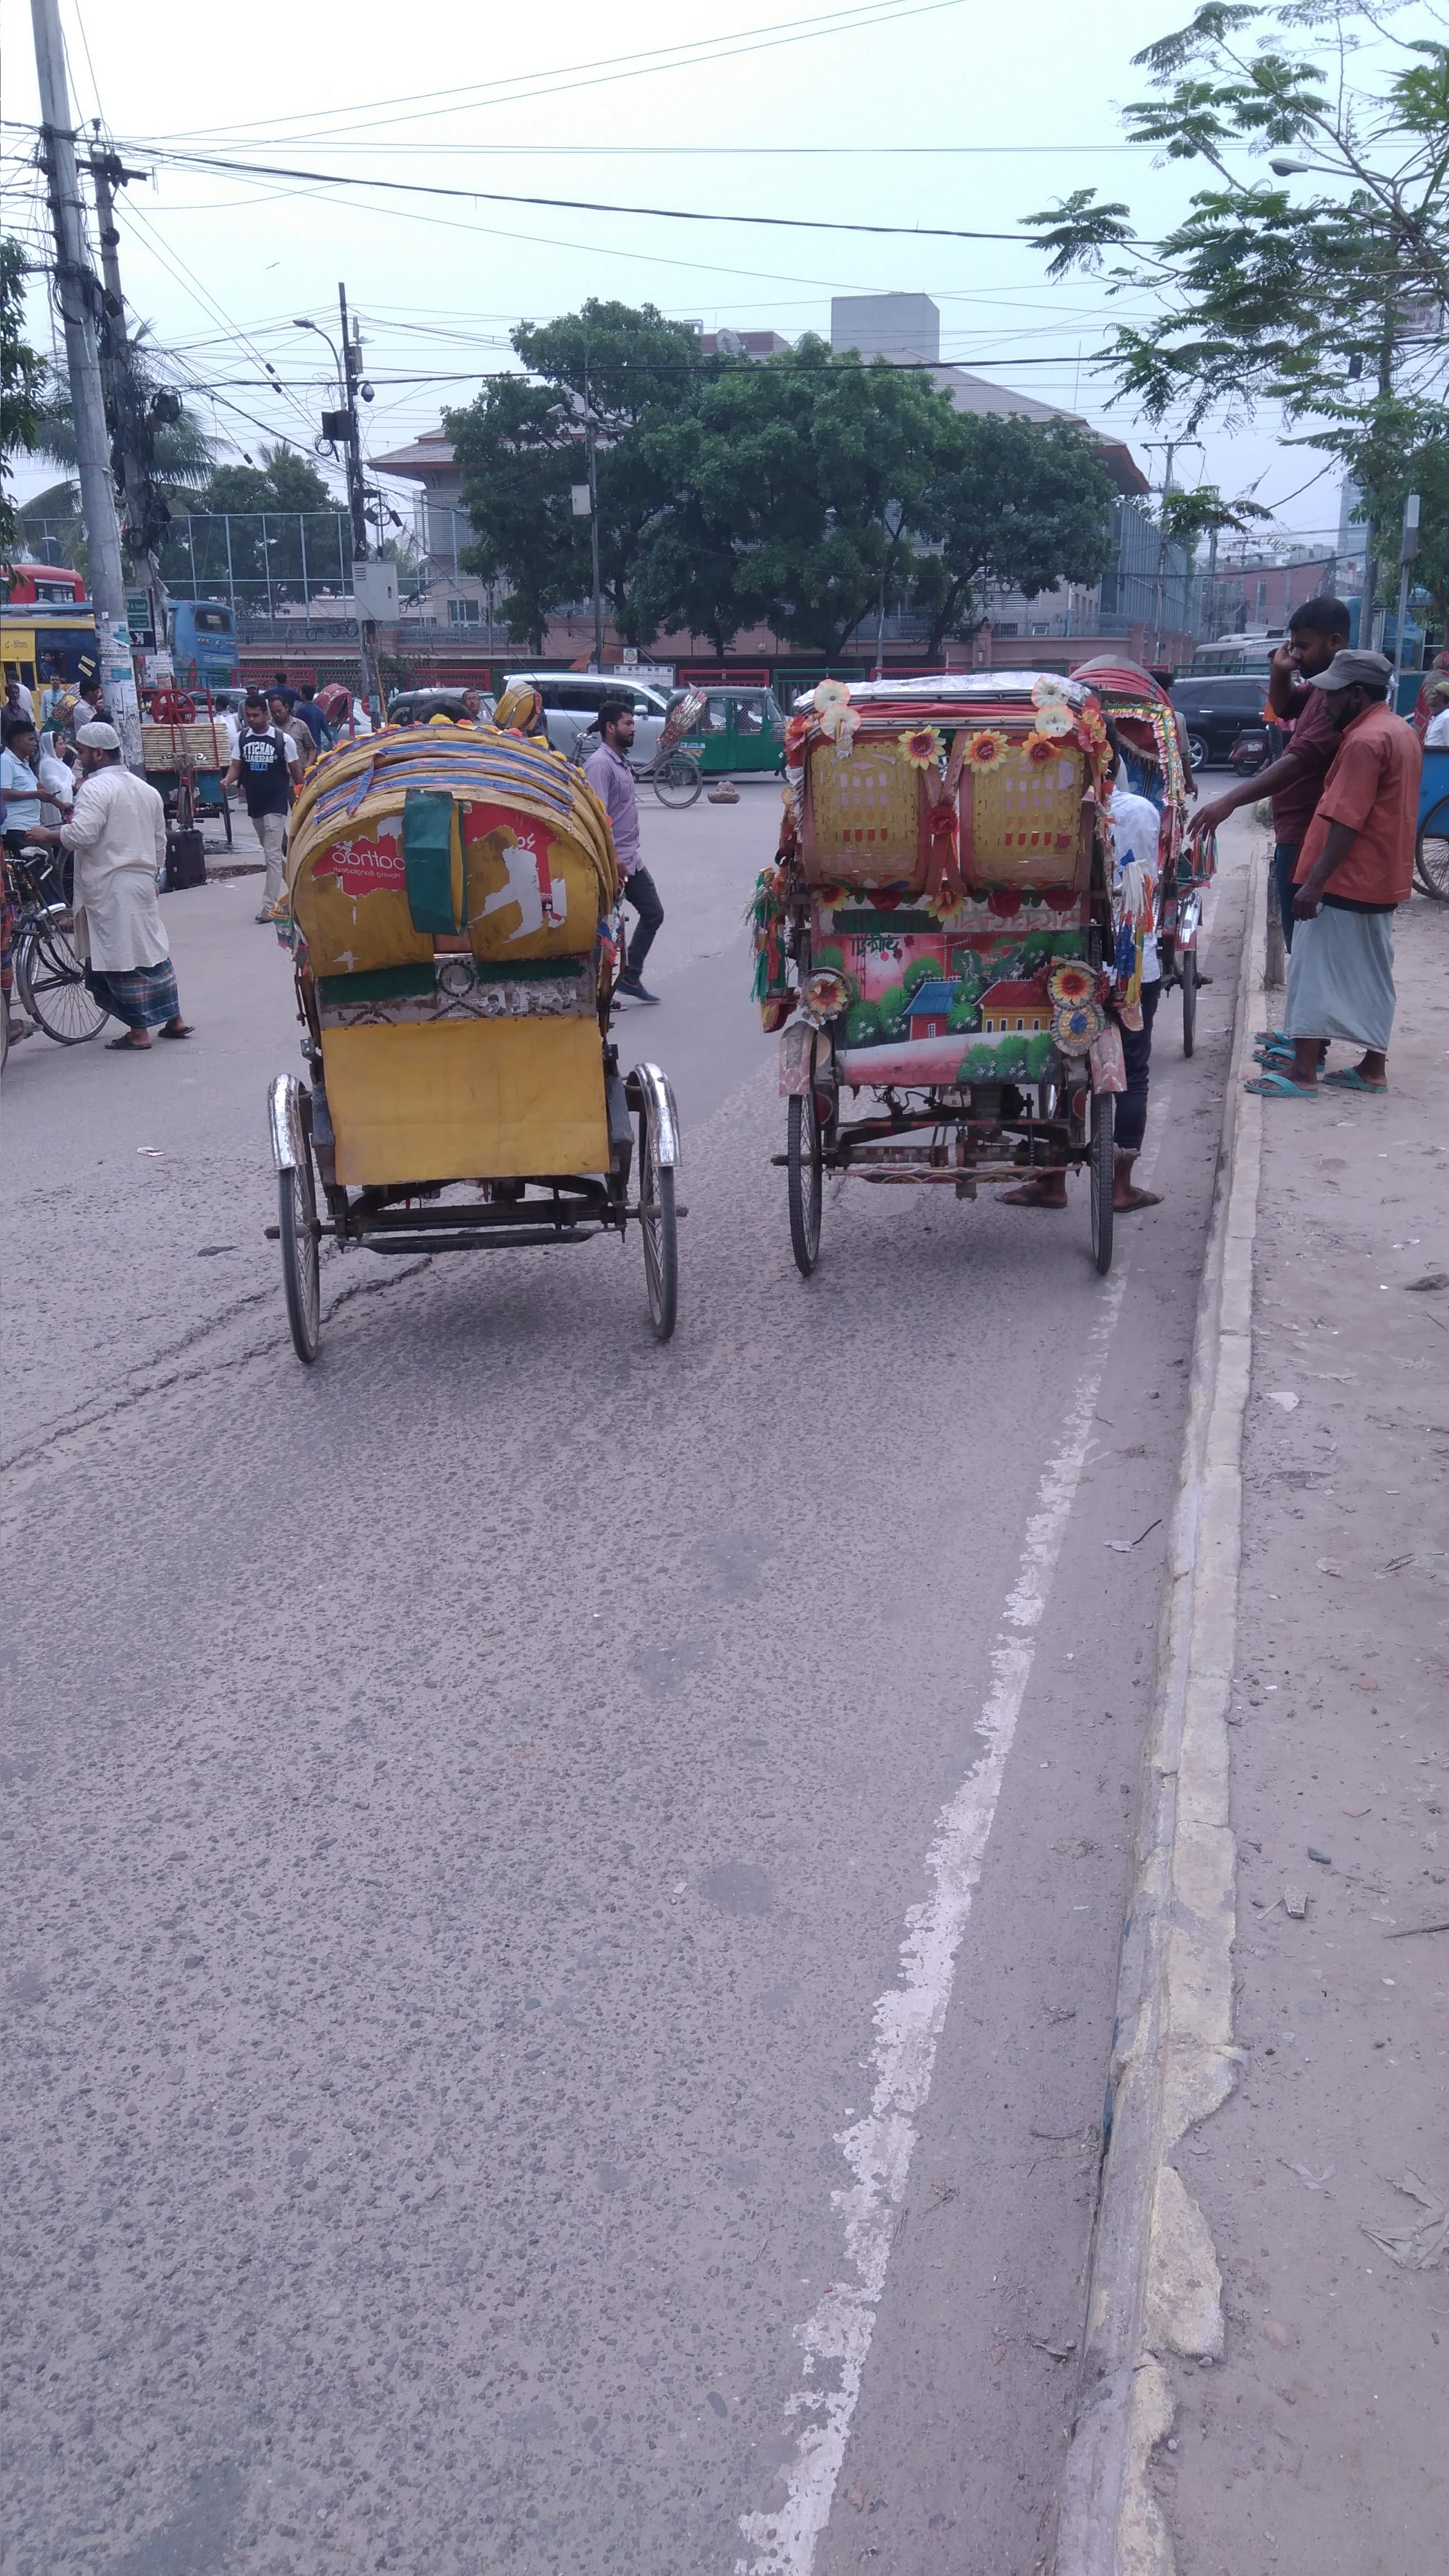Rickshaw: (234, 656, 701, 1399), (720, 579, 1171, 1313), (1074, 605, 1249, 1060)
